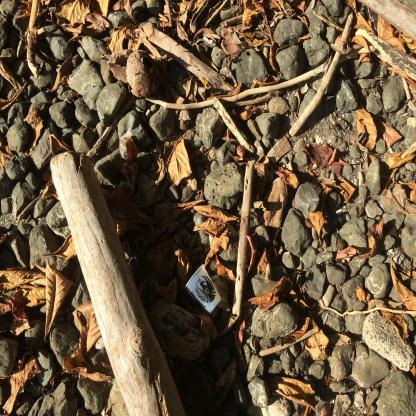karton: (185, 263, 221, 313)
